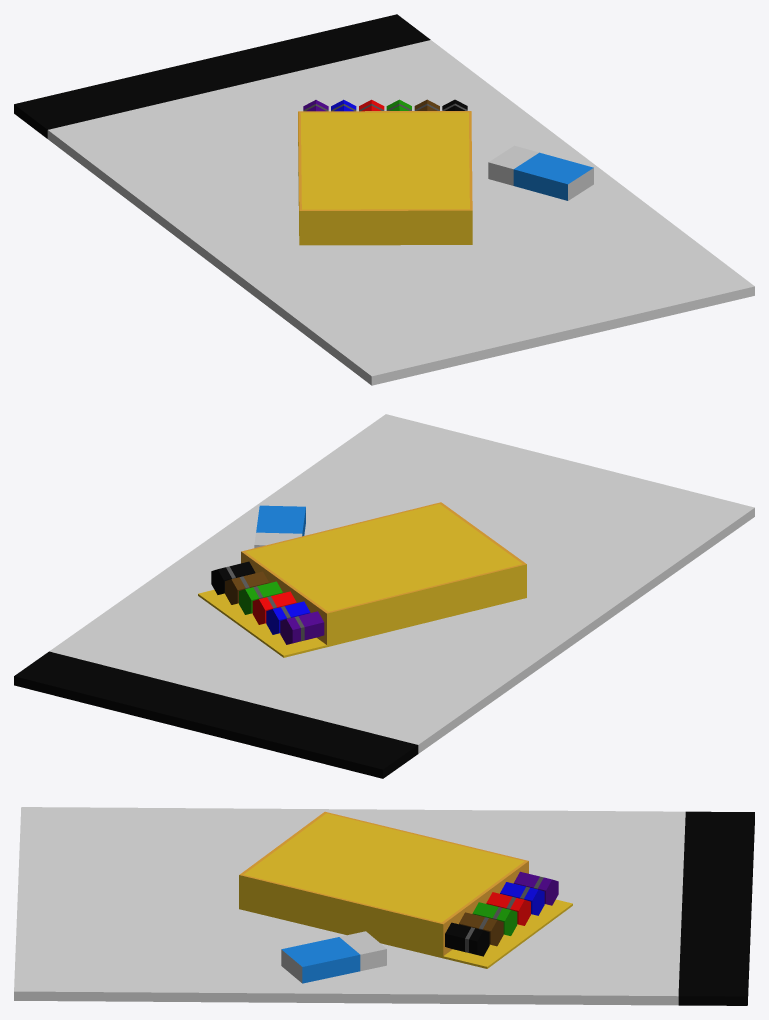
File: SM_DrawingSet.glb
3 renders of one model, top to bottom at view 1: azimuth 30°, elevation 25°; view 2: azimuth 150°, elevation 25°; view 3: azimuth 270°, elevation 25°, orthographic.
Visible parts, largest first — view 1: SM_DrawingSet; view 2: SM_DrawingSet; view 3: SM_DrawingSet.
Part boxes in pixels (bbox=[...]): SM_DrawingSet: bbox=[14, 14, 754, 385]; SM_DrawingSet: bbox=[14, 414, 754, 778]; SM_DrawingSet: bbox=[14, 807, 754, 1005].
Size of the model in its own units: 0.5846 by 0.0625 by 0.9654.
